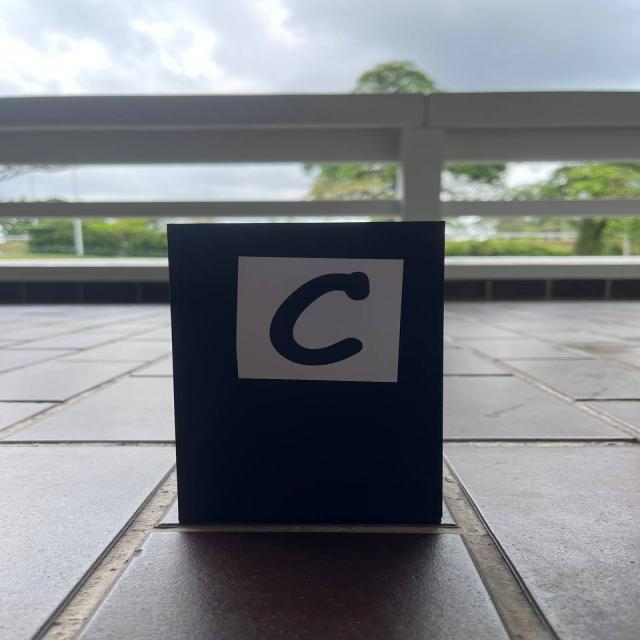C_id22: (238, 256, 402, 384)
